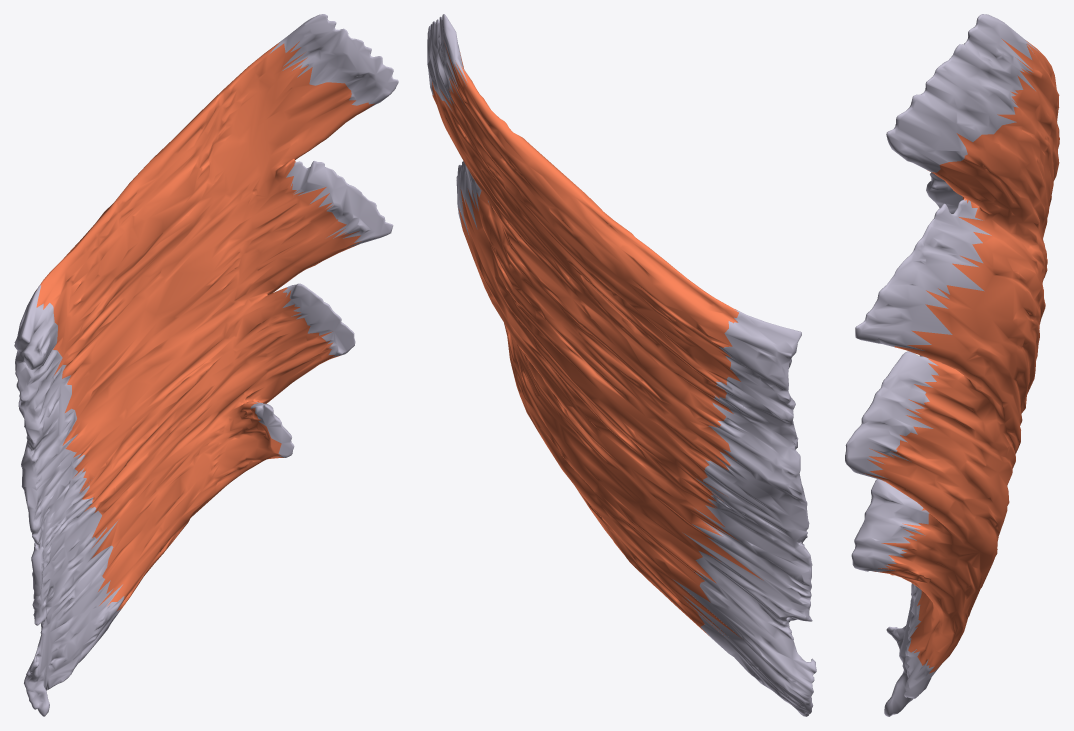
The model's file is Serratus_posterior_inferior_left.glb.
The picture shows the model from 3 angles, left to right: view 1: azimuth 30°, elevation 25°; view 2: azimuth 150°, elevation 25°; view 3: azimuth 270°, elevation 25°; orthographic projection. The views are drawn at different scales.
Parts seen in each view (by area): view 1: Serratus_posterior_inferior_muscle.l_Generated_Mesh_From_X3D; view 2: Serratus_posterior_inferior_muscle.l_Generated_Mesh_From_X3D; view 3: Serratus_posterior_inferior_muscle.l_Generated_Mesh_From_X3D.
Part boxes in pixels (x1,y1,x2,y2): Serratus_posterior_inferior_muscle.l_Generated_Mesh_From_X3D: (14,14,398,716); Serratus_posterior_inferior_muscle.l_Generated_Mesh_From_X3D: (427,14,816,716); Serratus_posterior_inferior_muscle.l_Generated_Mesh_From_X3D: (845,14,1059,716).
Bounding box in the file's own units: 0.1137 × 0.1786 × 0.0371.
